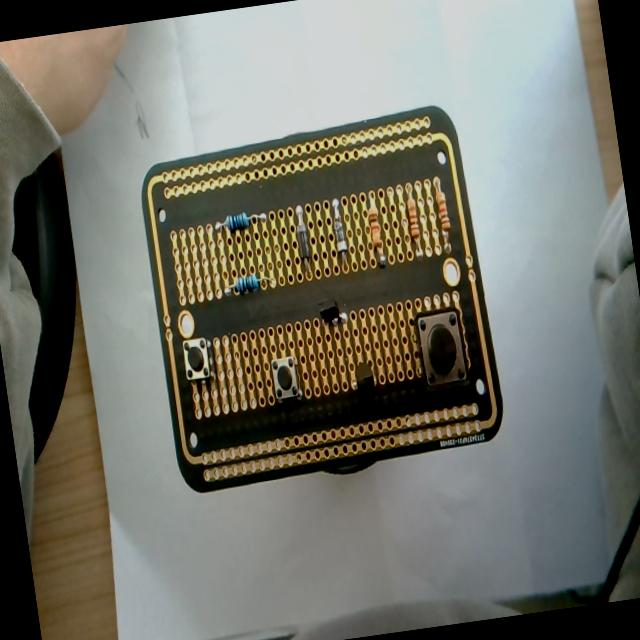diode: (331, 198, 352, 272), (294, 205, 314, 278)
resistor: (362, 190, 394, 271), (430, 176, 456, 252), (213, 208, 270, 234), (223, 272, 278, 298), (404, 192, 425, 258)
switch: (412, 306, 471, 392), (270, 353, 302, 402), (181, 336, 213, 382)
transistor: (346, 359, 382, 407), (316, 298, 355, 340)
